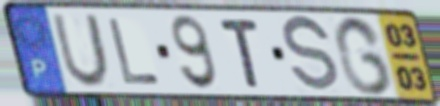9: (169, 12, 221, 93)
G: (330, 13, 395, 98)
L: (105, 16, 164, 86)
S: (281, 12, 341, 96)
T: (216, 16, 263, 91)
U: (49, 12, 112, 90)
